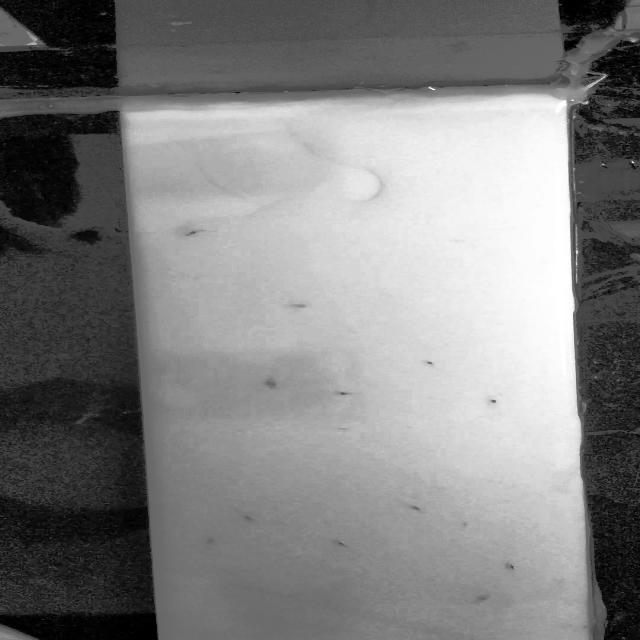shrimp: (399, 500, 425, 516), (180, 227, 212, 238), (451, 518, 478, 530), (501, 561, 522, 575), (330, 390, 362, 399), (264, 378, 286, 391), (475, 591, 492, 604), (420, 358, 442, 368), (280, 305, 313, 311), (485, 397, 502, 407), (237, 514, 257, 522), (335, 540, 353, 547), (206, 536, 218, 546)
